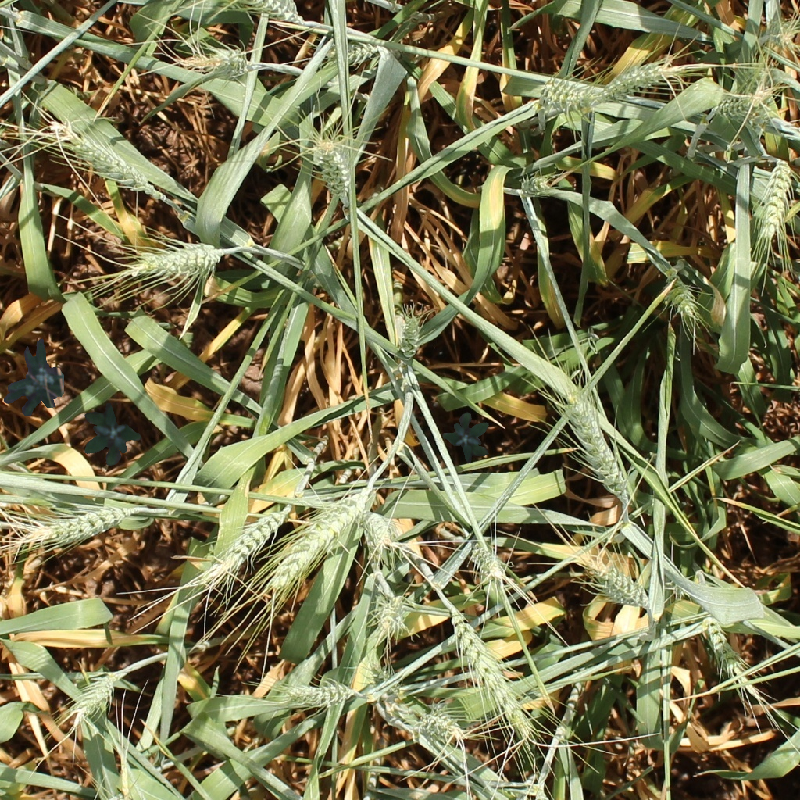spikelet: (266, 481, 376, 593), (449, 610, 537, 741), (202, 498, 295, 585), (50, 119, 153, 195), (566, 395, 633, 502), (20, 500, 130, 548), (119, 239, 224, 284), (753, 156, 797, 241), (702, 618, 753, 688), (588, 560, 653, 610), (308, 133, 355, 201), (600, 58, 676, 100), (537, 73, 610, 112), (67, 669, 120, 718), (272, 678, 353, 709), (466, 532, 510, 585), (315, 35, 385, 67), (419, 702, 468, 744), (661, 271, 701, 321), (372, 591, 412, 638), (224, 1, 303, 23), (759, 14, 800, 56), (360, 507, 400, 550), (207, 44, 254, 80), (392, 309, 424, 361), (517, 171, 553, 199)
weed: (1, 335, 58, 415), (78, 404, 142, 470), (441, 409, 493, 463)
